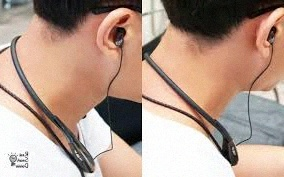earphone: (96, 8, 134, 62), (255, 8, 283, 57)
